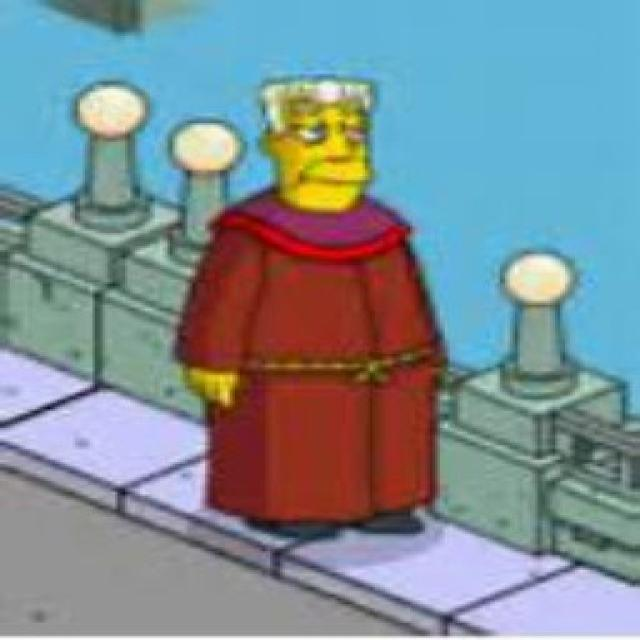Kent Brockman: (250, 73, 385, 215)
